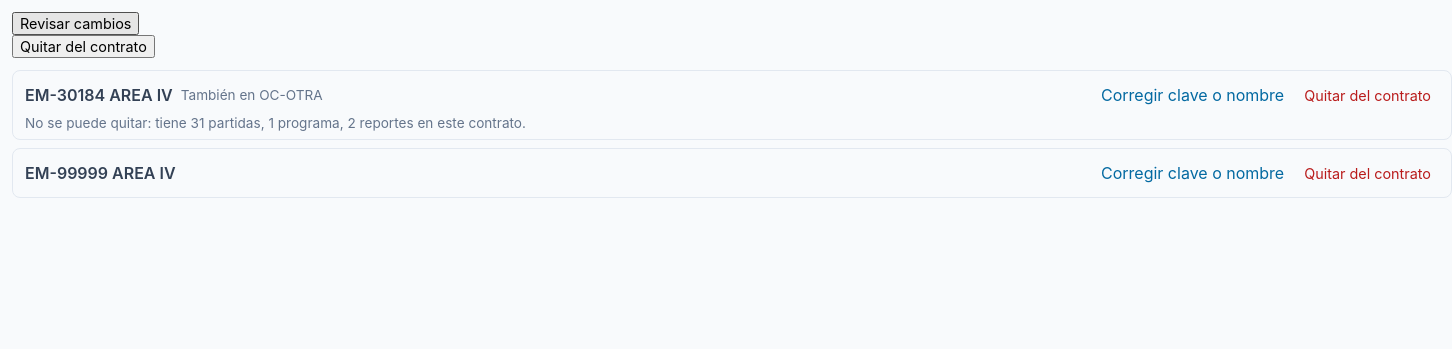
Scenario: SitiosContrato › deshabilita quitar un sitio con datos y avisa del sitio compartido al corregirlo
The image size is (1452, 349).
Expected: the button named "Quitar del contrato EM-30184" is disabled, [1296, 79, 1439, 111]
Expected: the button named "Quitar del contrato EM-99999" is enabled, [1296, 157, 1439, 189]
Step 1. Click the button named "Corregir clave o nombre de EM-30184" → (1193, 95), box [1093, 79, 1292, 111]
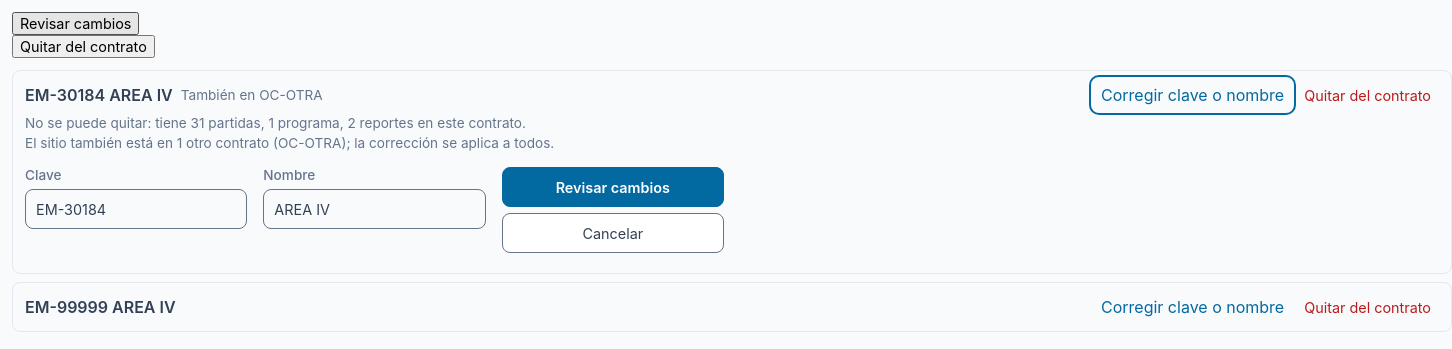
Expected: the text with class "aviso-compartido" shows "también está en 1 otro contrato (OC-OTRA)", [25, 135, 554, 151]
Expected: the field labelled "Nombre" holds "AREA IV", [263, 189, 486, 229]
